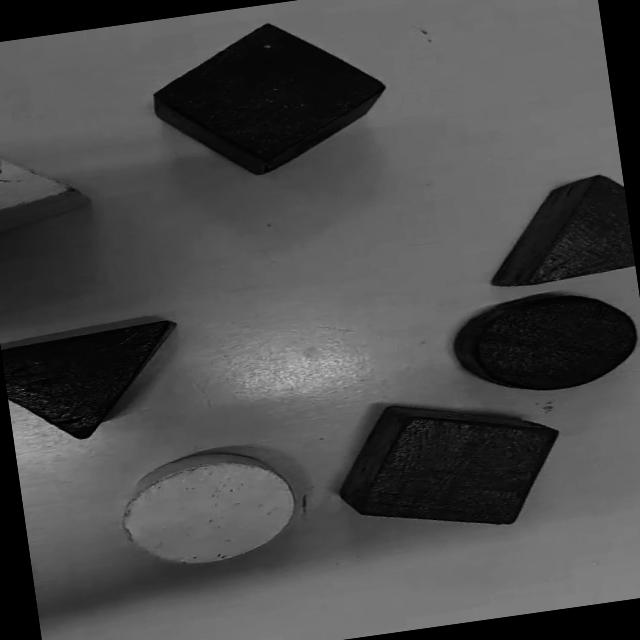bcircle: (452, 284, 640, 402)
bcube: (153, 24, 384, 175)
btriangle: (2, 317, 190, 448)
rcube: (329, 384, 571, 545)
rtriangle: (476, 172, 636, 292)
ycircle: (122, 452, 295, 565)
